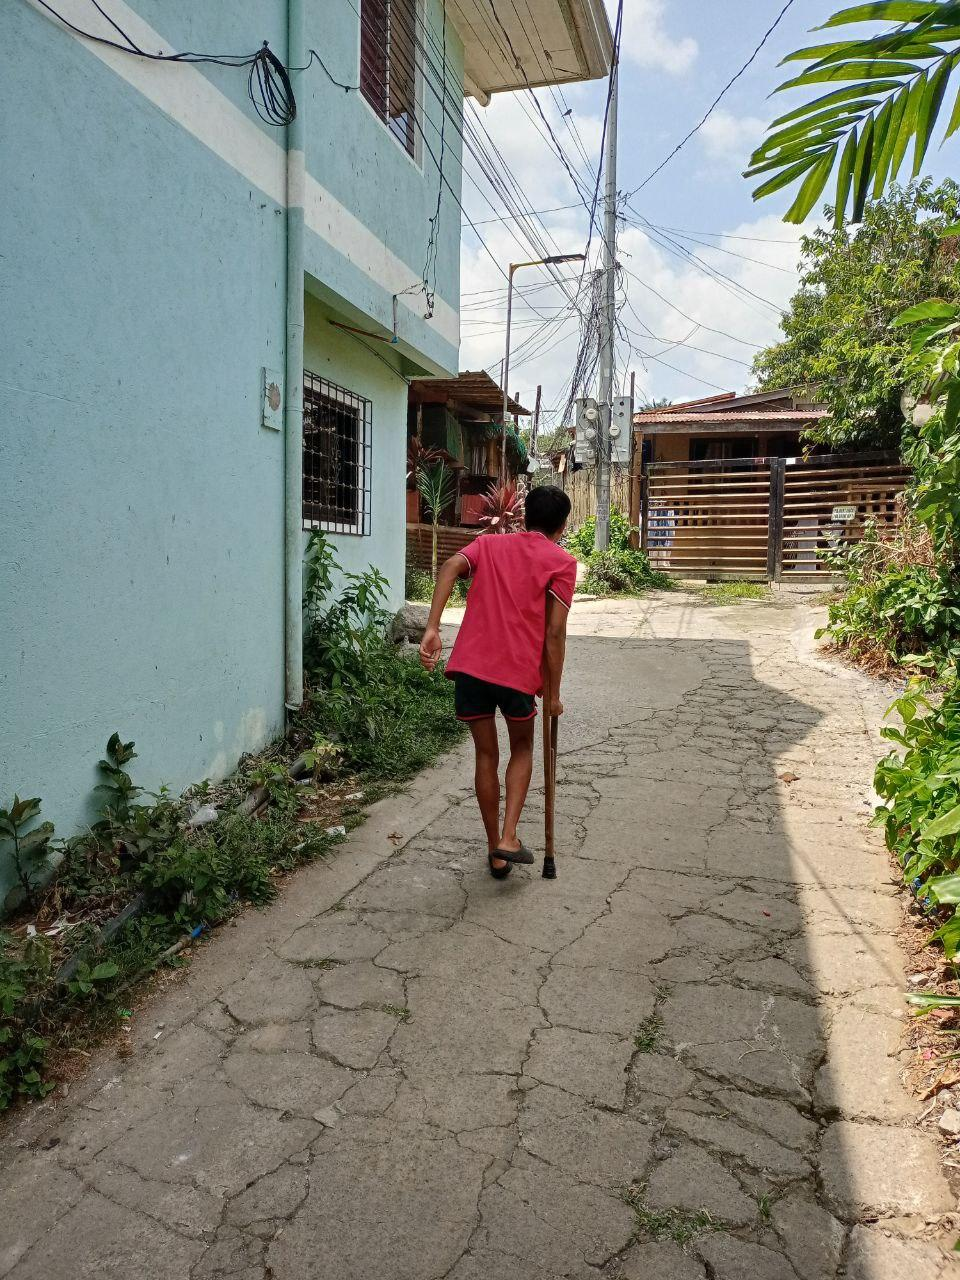crutches: (416, 487, 580, 882)
